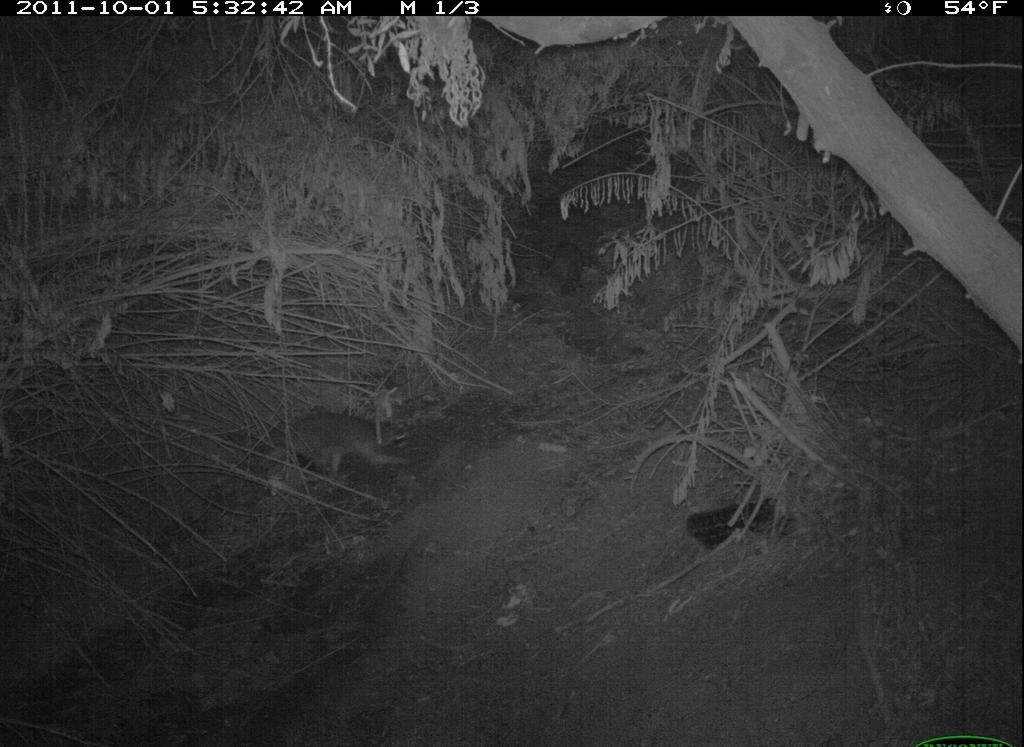raccoon: (260, 404, 421, 489), (544, 239, 589, 300)
